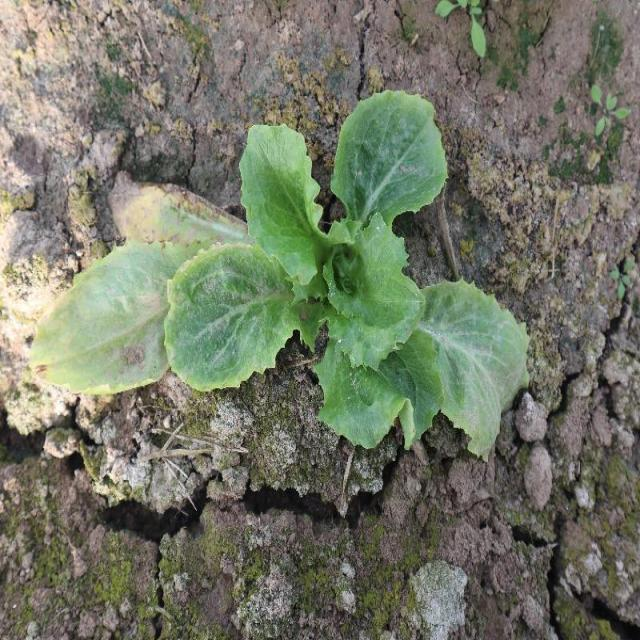crop: (162, 90, 534, 468)
